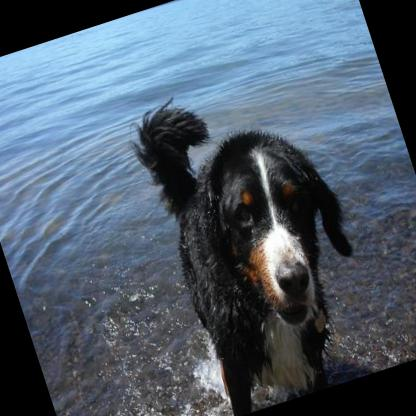Bernese_mountain_dog: (118, 57, 392, 416)
